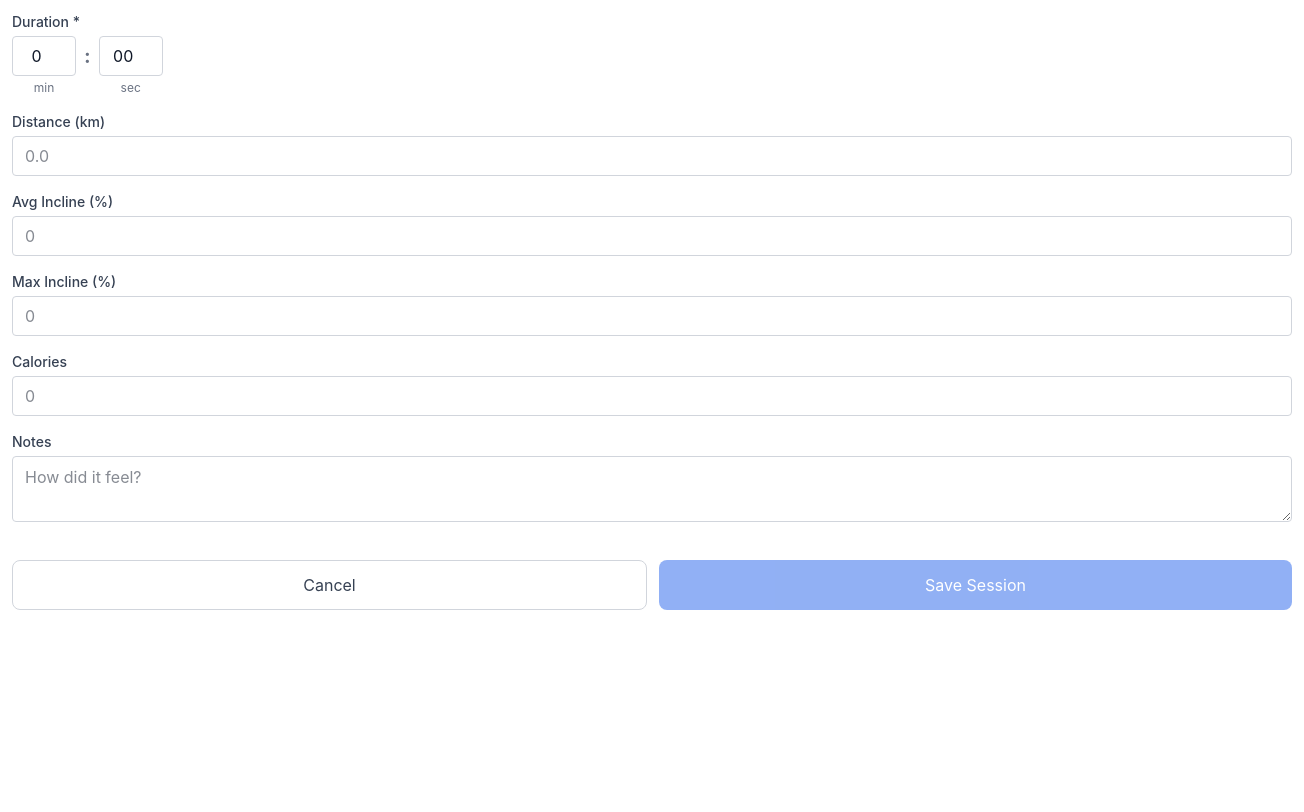
Test case: TreadmillForm › should auto-calculate average speed from distance and duration
This screenshot has width=1304, height=812.
Set duration to 30 minutes (1800 seconds)
Replace the text in the number field named "Minutes" with "30": coordinates (44, 56) [12,36,76,76]
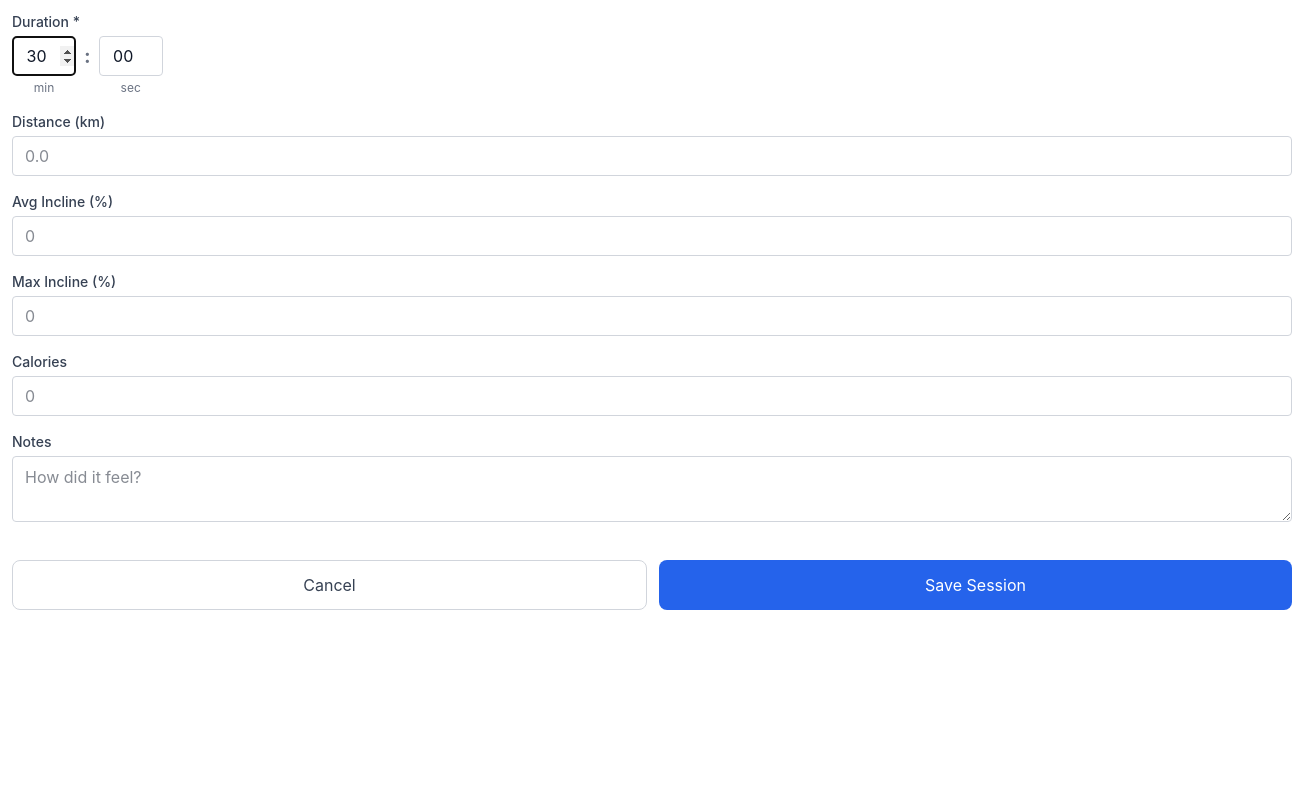
In the number field with placeholder "0.0": coordinates (652, 156) [12,136,1292,176], type "5"
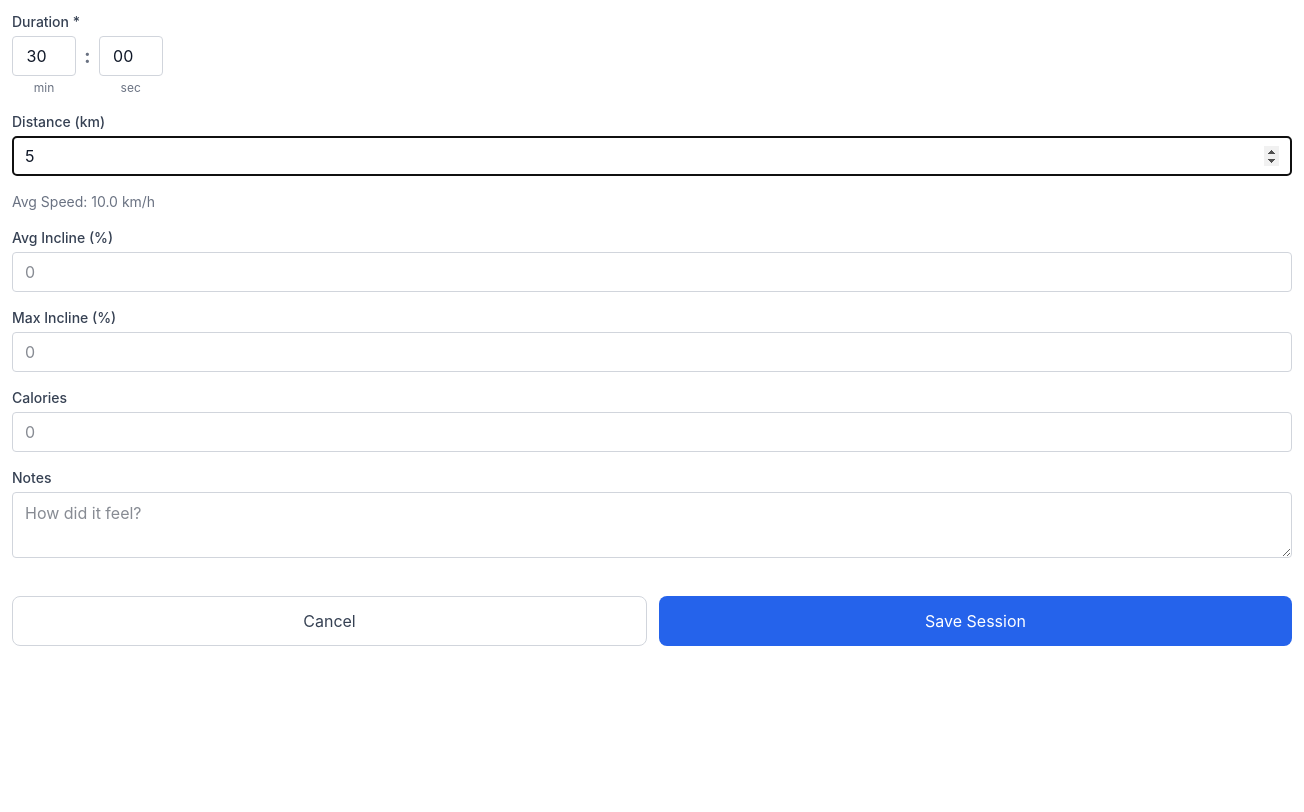
Check: the text "Avg Speed: 10.0 km/h" is shown, box [12,193,155,210]
